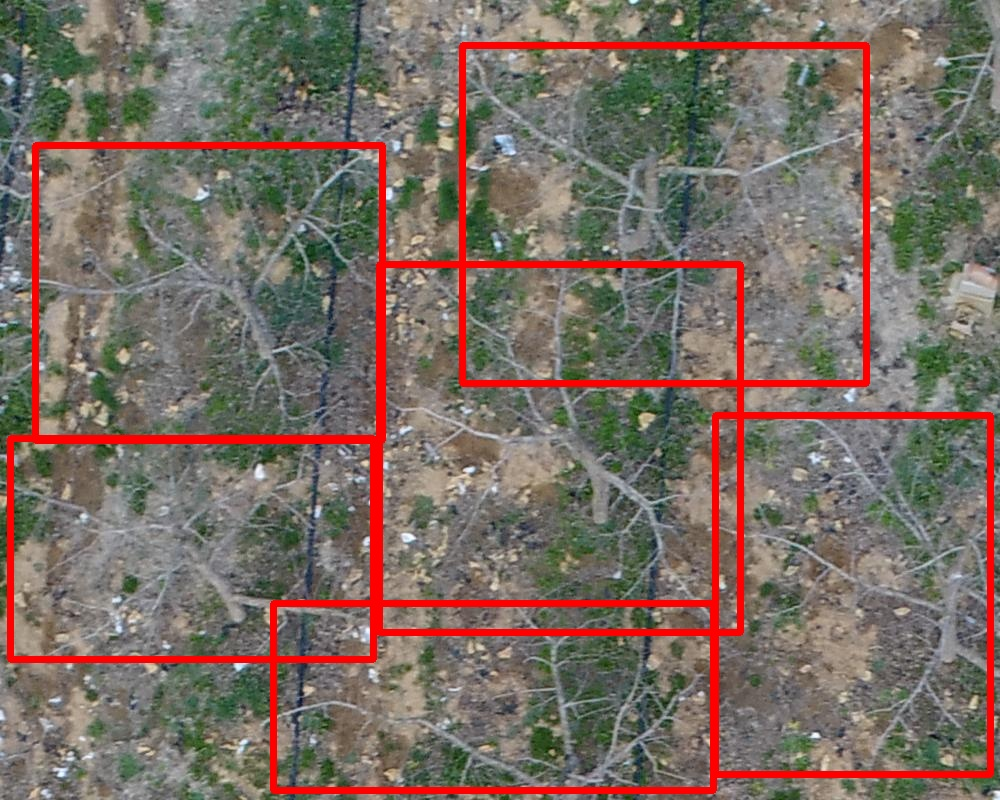apple: (462, 45, 866, 383), (379, 264, 740, 632), (35, 145, 382, 440), (715, 415, 990, 774), (273, 603, 713, 790), (10, 438, 373, 659)
